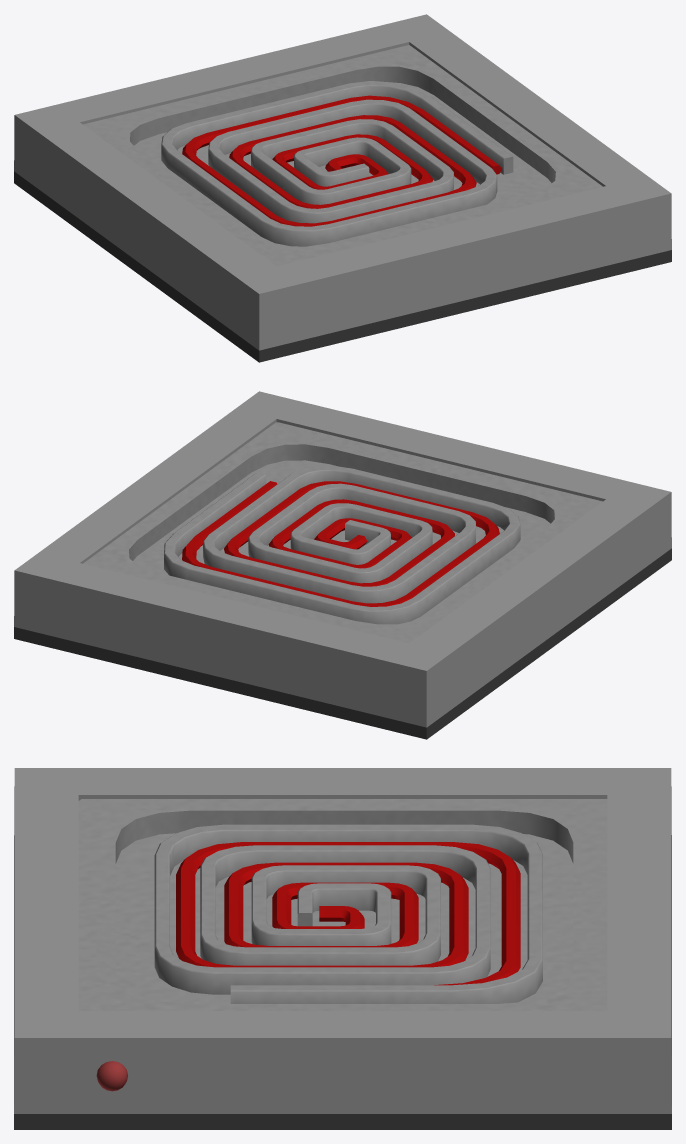
File: SM_加热装置_001.fbx
3 views of the same model, one above another, from view 1: azimuth 30°, elevation 25°; view 2: azimuth 150°, elevation 25°; view 3: azimuth 270°, elevation 25° (orthographic). The views are drawn at different scales.
Parts seen in each view (by area): view 1: SM_加热装置_001; view 2: SM_加热装置_001; view 3: SM_加热装置_001.
Part boxes in pixels (x1,y1,x2,y2): SM_加热装置_001: (14,14,671,362); SM_加热装置_001: (14,391,671,739); SM_加热装置_001: (14,768,671,1129).
Size of the model in its own units: 0.2614 by 0.0403 by 0.2621.
